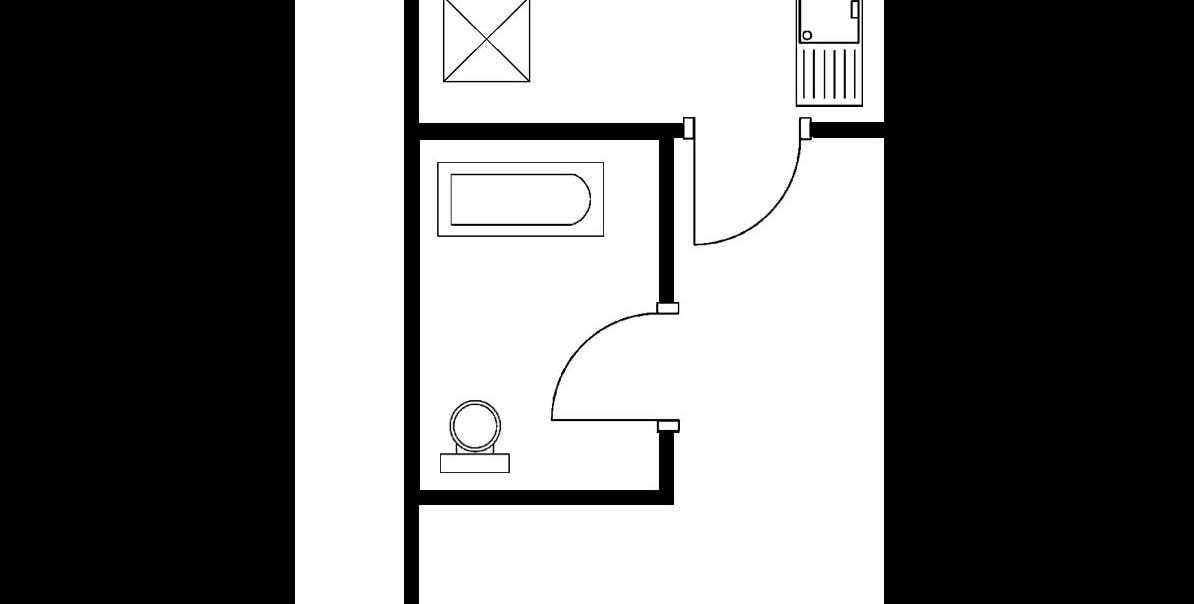sink: (786, 0, 870, 115)
toilet: (427, 394, 520, 479)
tub: (429, 155, 609, 242)
